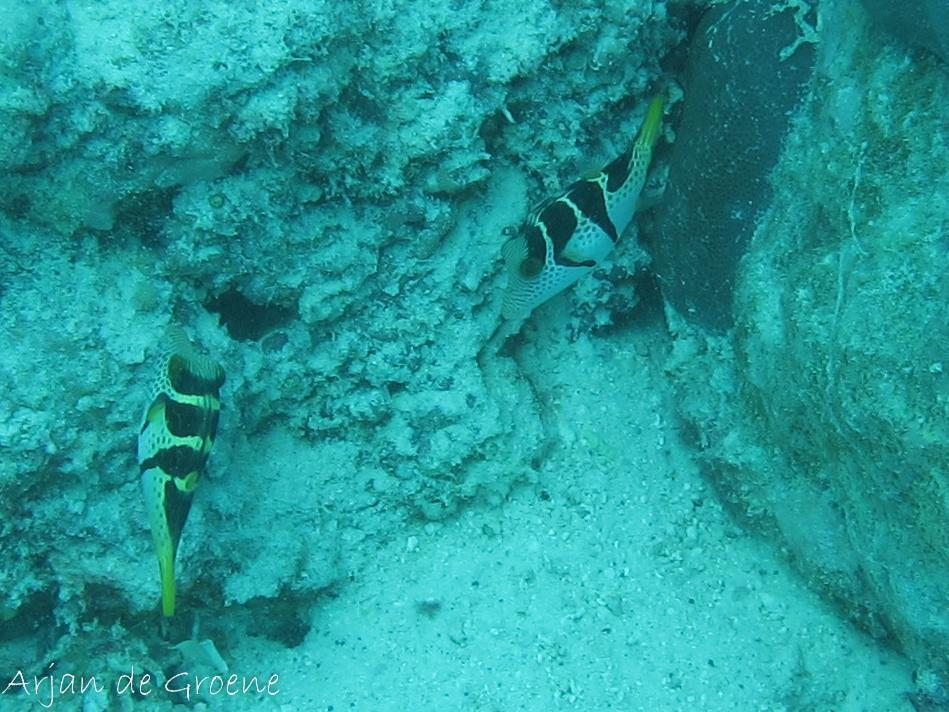Fish: (486, 82, 682, 358), (126, 322, 234, 636)
